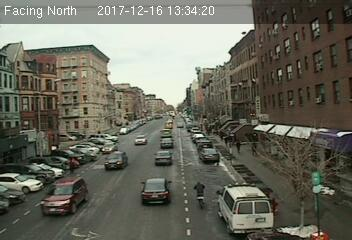bicycle: (192, 181, 206, 212)
car: (39, 175, 86, 212), (142, 175, 172, 207), (104, 150, 127, 168), (199, 147, 220, 162), (152, 151, 173, 165), (158, 137, 174, 149), (134, 134, 148, 147), (100, 142, 116, 153)
police: (216, 179, 275, 234)
